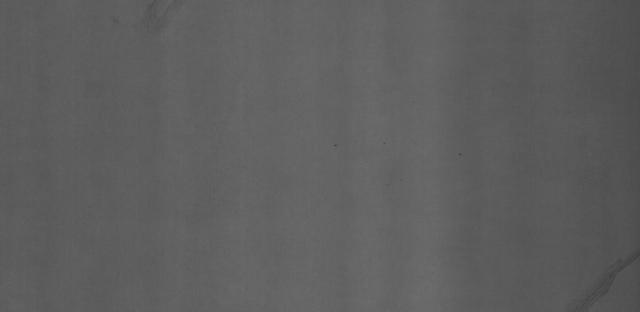water_spot: (567, 245, 640, 310), (123, 1, 189, 54)
